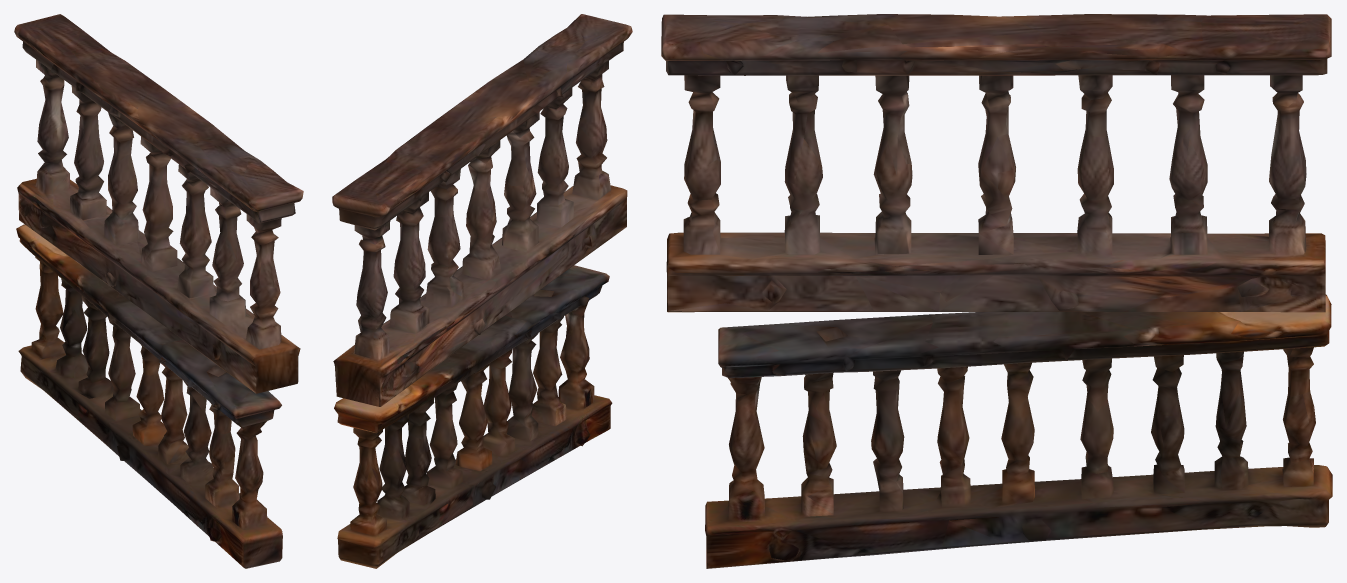
Rendered from balcony-rail.glb.
3 renders of one model, left to right at view 1: azimuth 30°, elevation 25°; view 2: azimuth 150°, elevation 25°; view 3: azimuth 270°, elevation 25°, orthographic. The views are drawn at different scales.
Visible parts, largest first — view 1: tripo_node_92a41f33-8d14-4693-9773-54e19872fb09; view 2: tripo_node_92a41f33-8d14-4693-9773-54e19872fb09; view 3: tripo_node_92a41f33-8d14-4693-9773-54e19872fb09.
Part boxes in pixels (<box>): tripo_node_92a41f33-8d14-4693-9773-54e19872fb09: <box>14,14,303,568</box>; tripo_node_92a41f33-8d14-4693-9773-54e19872fb09: <box>332,14,632,568</box>; tripo_node_92a41f33-8d14-4693-9773-54e19872fb09: <box>661,14,1332,568</box>.
Size of the model in its own units: 0.1227 by 0.8701 by 1.
Materials: 1 (1 with a texture image).
